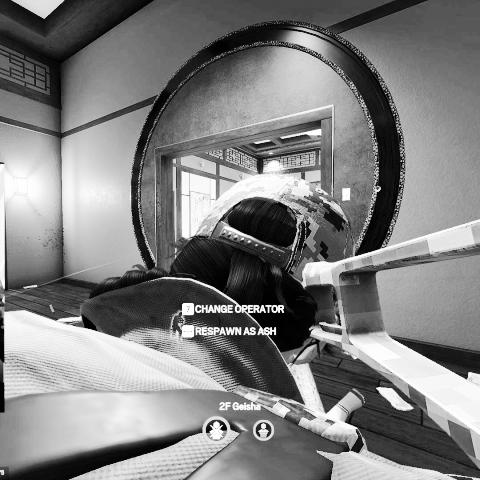Character: (6, 171, 460, 480)
Head: (177, 175, 357, 348)
